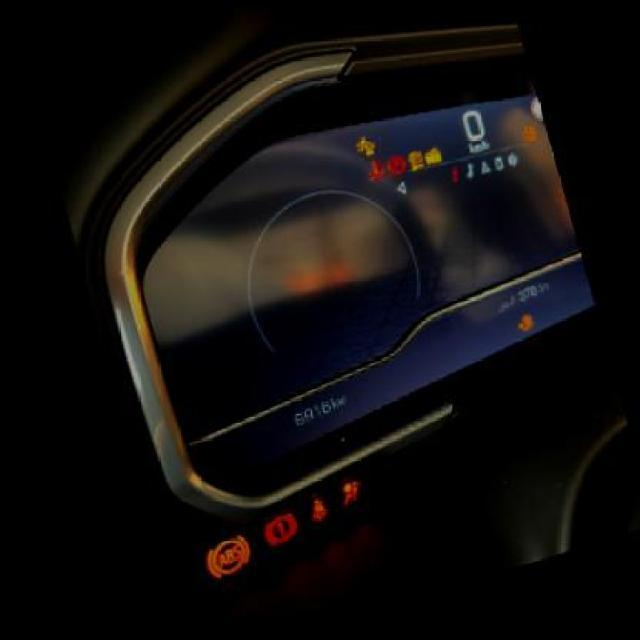High Engine Coolant Temperature: (362, 158, 386, 184)
